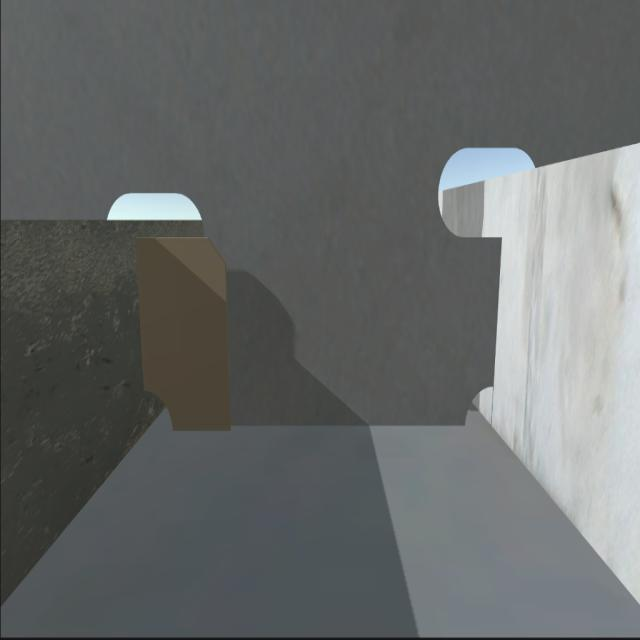fillet_hole: (464, 381, 499, 427), (140, 392, 176, 432)
fillet_yong_jeop_jang: (175, 420, 464, 434)
longi_yong_jeop_jang: (130, 241, 152, 389), (492, 239, 506, 382)
plate_CP03: (139, 245, 236, 422)
